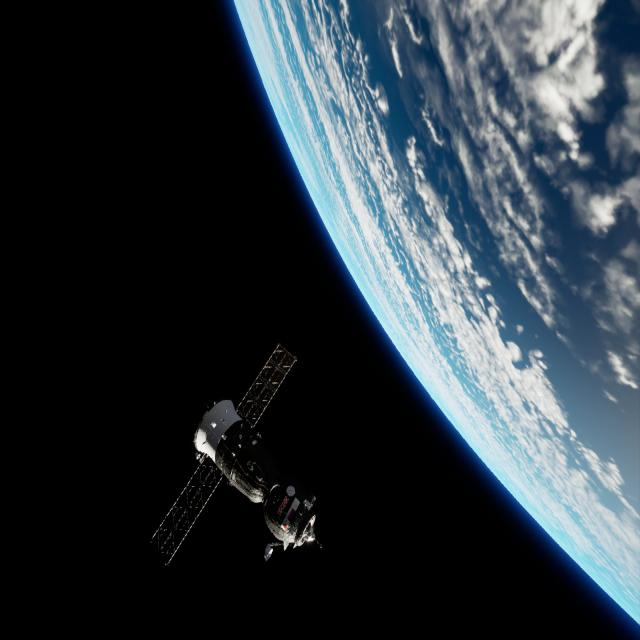Satellites revolving around earth: (148, 341, 322, 568)
